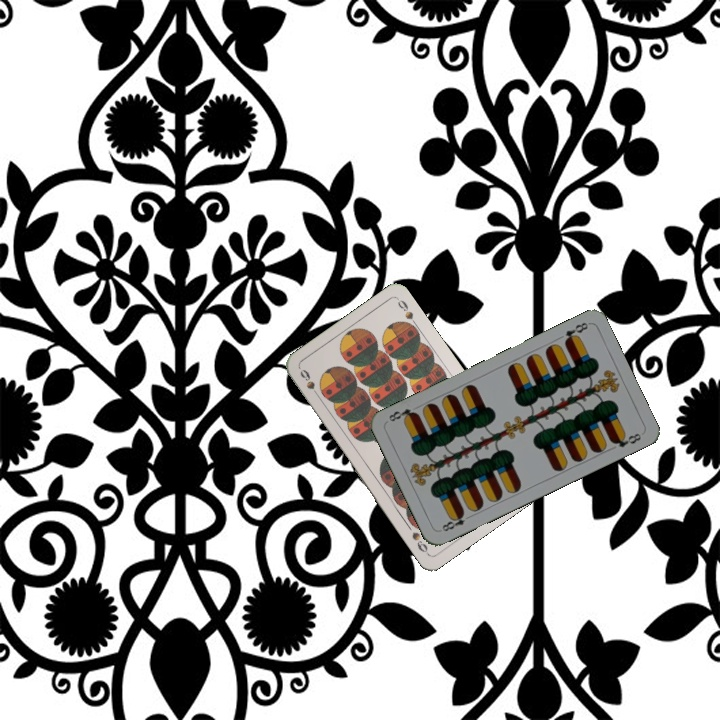E8: (438, 508, 475, 534), (560, 318, 591, 346)
S9: (296, 365, 324, 401)
